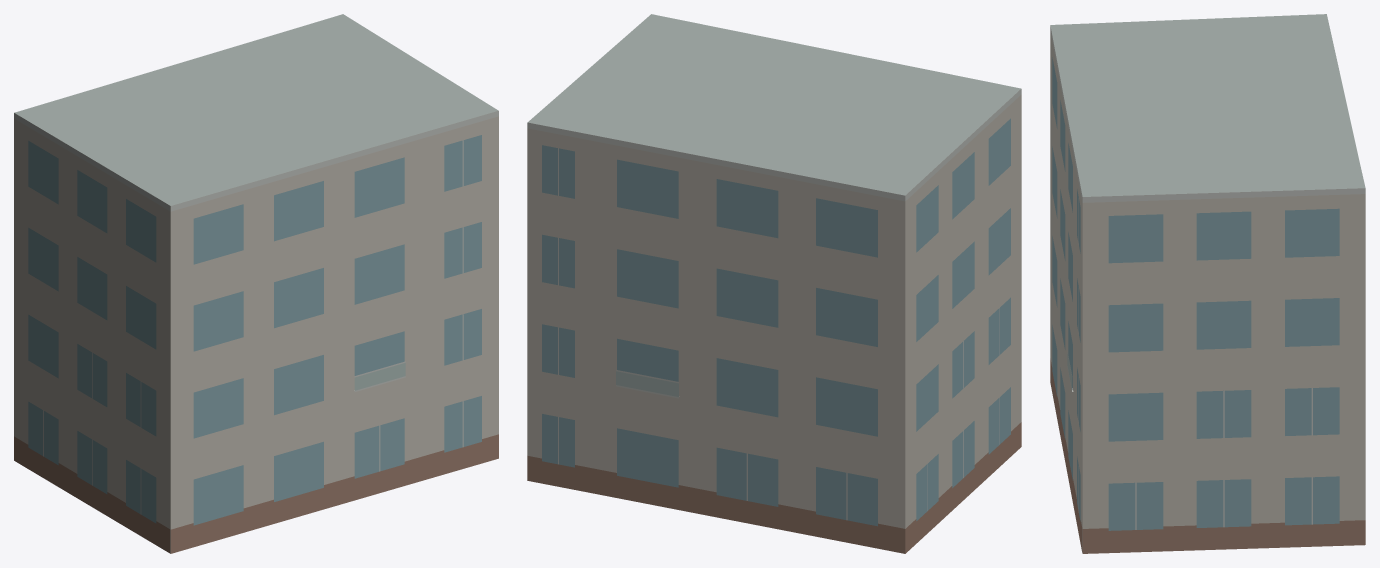
Rendered from survey-upis-32885106.glb.
3 renders of one model, left to right at view 1: azimuth 30°, elevation 25°; view 2: azimuth 150°, elevation 25°; view 3: azimuth 270°, elevation 25°, orthographic. The views are drawn at different scales.
Visible parts, largest first — view 1: survey-upis-32885106.tmp; view 2: survey-upis-32885106.tmp; view 3: survey-upis-32885106.tmp.
Boxes of the visible parts, bbox=[...] form: survey-upis-32885106.tmp: bbox=[14, 14, 498, 553]; survey-upis-32885106.tmp: bbox=[527, 14, 1021, 553]; survey-upis-32885106.tmp: bbox=[1050, 14, 1365, 553].
Bounding box in the file's own units: 16.51 × 15 × 12.02.
